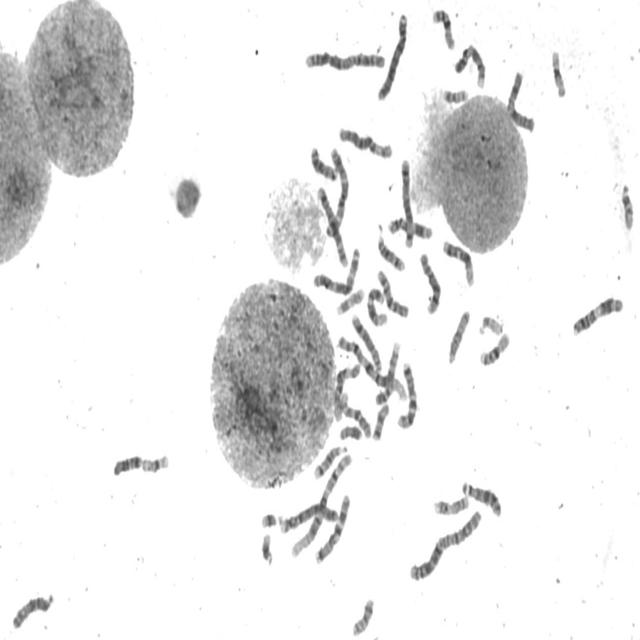A1: (288, 444, 353, 561), (334, 331, 410, 403)
A2: (406, 504, 484, 584), (301, 44, 387, 73)
A3: (310, 242, 362, 296), (324, 142, 351, 238)
B4: (375, 7, 409, 102), (276, 499, 341, 535)
B5: (314, 182, 350, 270), (398, 154, 415, 250)
C10: (374, 264, 410, 320), (337, 388, 372, 440)
C11: (569, 290, 625, 338), (385, 211, 434, 241)
C12: (440, 235, 476, 288), (364, 283, 389, 328)
C6: (336, 122, 394, 160), (331, 359, 361, 423)
C7: (312, 489, 351, 565), (394, 358, 418, 430)
C8: (348, 308, 384, 374), (417, 247, 442, 316)
C9: (372, 338, 402, 407), (452, 40, 487, 90)
D13: (460, 477, 502, 518), (308, 141, 338, 182)
D14: (374, 224, 407, 272), (311, 441, 348, 480)
D15: (10, 588, 55, 631), (445, 304, 472, 366)
E16: (476, 328, 512, 368), (430, 4, 456, 52)
E17: (334, 283, 366, 316), (430, 491, 470, 516)
E18: (110, 449, 143, 478), (370, 398, 390, 442)
F19: (548, 45, 568, 99), (139, 448, 170, 474)
F20: (349, 594, 375, 638), (441, 84, 473, 105)
G21: (258, 529, 274, 567), (258, 507, 278, 530)
G22: (476, 310, 504, 337), (621, 183, 634, 232)
X: (504, 65, 536, 134)
Y: (337, 422, 363, 442)
